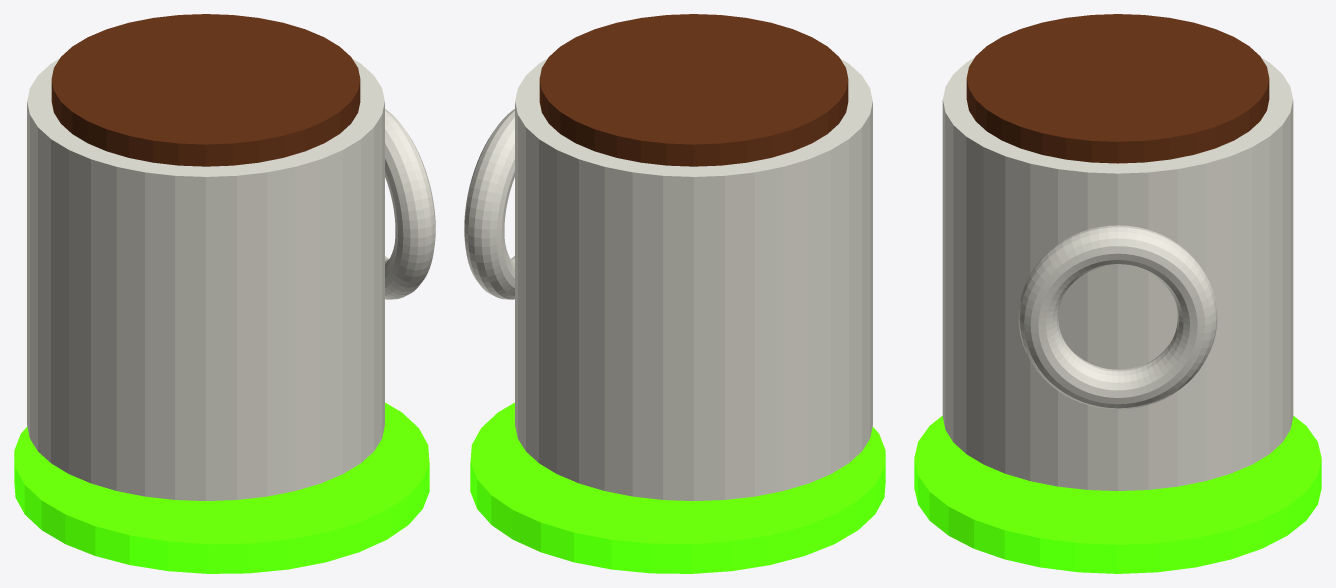
The model's file is food_coffee_cup.dae.
3 renders of one model, left to right at view 1: azimuth 30°, elevation 25°; view 2: azimuth 150°, elevation 25°; view 3: azimuth 270°, elevation 25°, orthographic. The views are drawn at different scales.
Visible parts, largest first — view 1: 01_18_Popular_Food_Coffee_Cup_part_01, 01_18_Popular_Food_Coffee_Cup_part_03, 01_18_Popular_Food_Coffee_Cup_ROOT_base, 01_18_Popular_Food_Coffee_Cup_part_02; view 2: 01_18_Popular_Food_Coffee_Cup_part_01, 01_18_Popular_Food_Coffee_Cup_part_03, 01_18_Popular_Food_Coffee_Cup_ROOT_base, 01_18_Popular_Food_Coffee_Cup_part_02; view 3: 01_18_Popular_Food_Coffee_Cup_part_01, 01_18_Popular_Food_Coffee_Cup_part_03, 01_18_Popular_Food_Coffee_Cup_ROOT_base, 01_18_Popular_Food_Coffee_Cup_part_02.
Boxes of the visible parts, box(x1,y1,x2,y2) form: 01_18_Popular_Food_Coffee_Cup_part_01: box(27, 58, 384, 500); 01_18_Popular_Food_Coffee_Cup_part_03: box(51, 14, 360, 166); 01_18_Popular_Food_Coffee_Cup_ROOT_base: box(14, 402, 429, 573); 01_18_Popular_Food_Coffee_Cup_part_02: box(385, 109, 435, 299); 01_18_Popular_Food_Coffee_Cup_part_01: box(515, 58, 872, 500); 01_18_Popular_Food_Coffee_Cup_part_03: box(539, 14, 848, 166); 01_18_Popular_Food_Coffee_Cup_ROOT_base: box(470, 402, 885, 573); 01_18_Popular_Food_Coffee_Cup_part_02: box(464, 109, 514, 299); 01_18_Popular_Food_Coffee_Cup_part_01: box(942, 57, 1293, 490); 01_18_Popular_Food_Coffee_Cup_part_03: box(966, 14, 1269, 163); 01_18_Popular_Food_Coffee_Cup_ROOT_base: box(914, 416, 1321, 573); 01_18_Popular_Food_Coffee_Cup_part_02: box(1018, 225, 1217, 409).
Size of the model in its own units: 0.76 by 0.8277 by 0.76.
